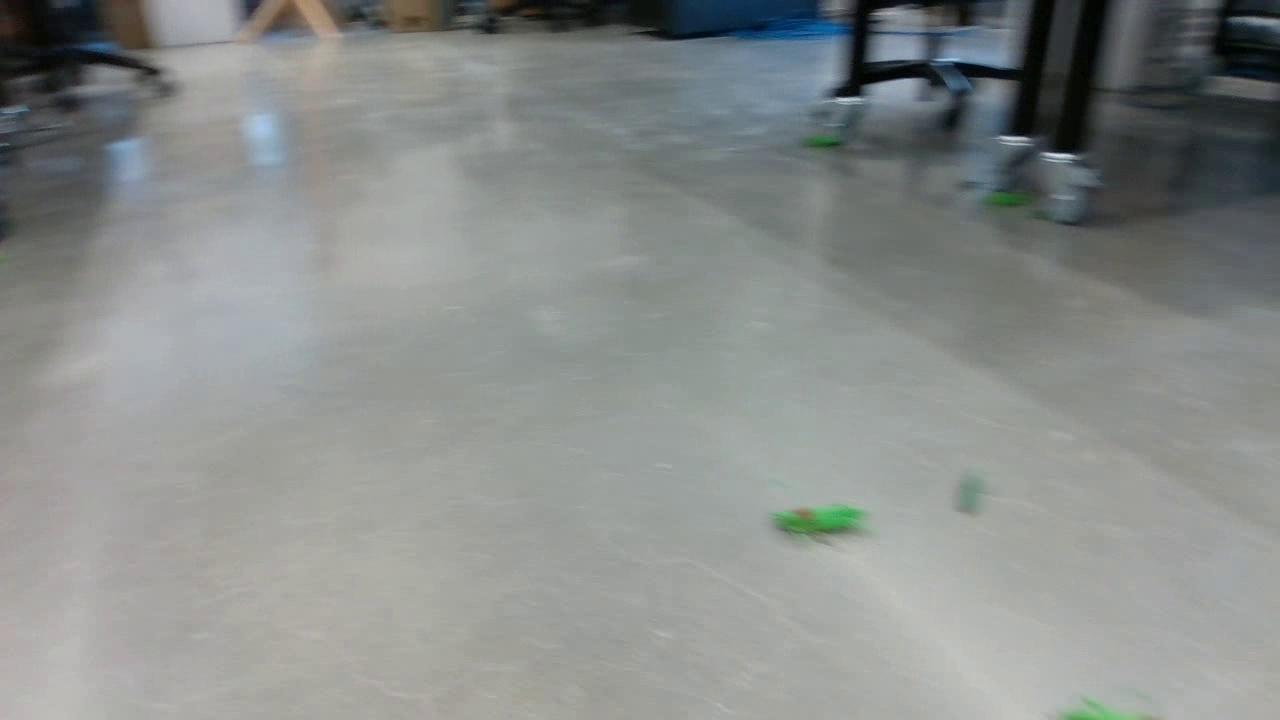grasshopper: (769, 496, 875, 549), (1046, 691, 1165, 720), (802, 130, 846, 155), (983, 190, 1029, 210)
